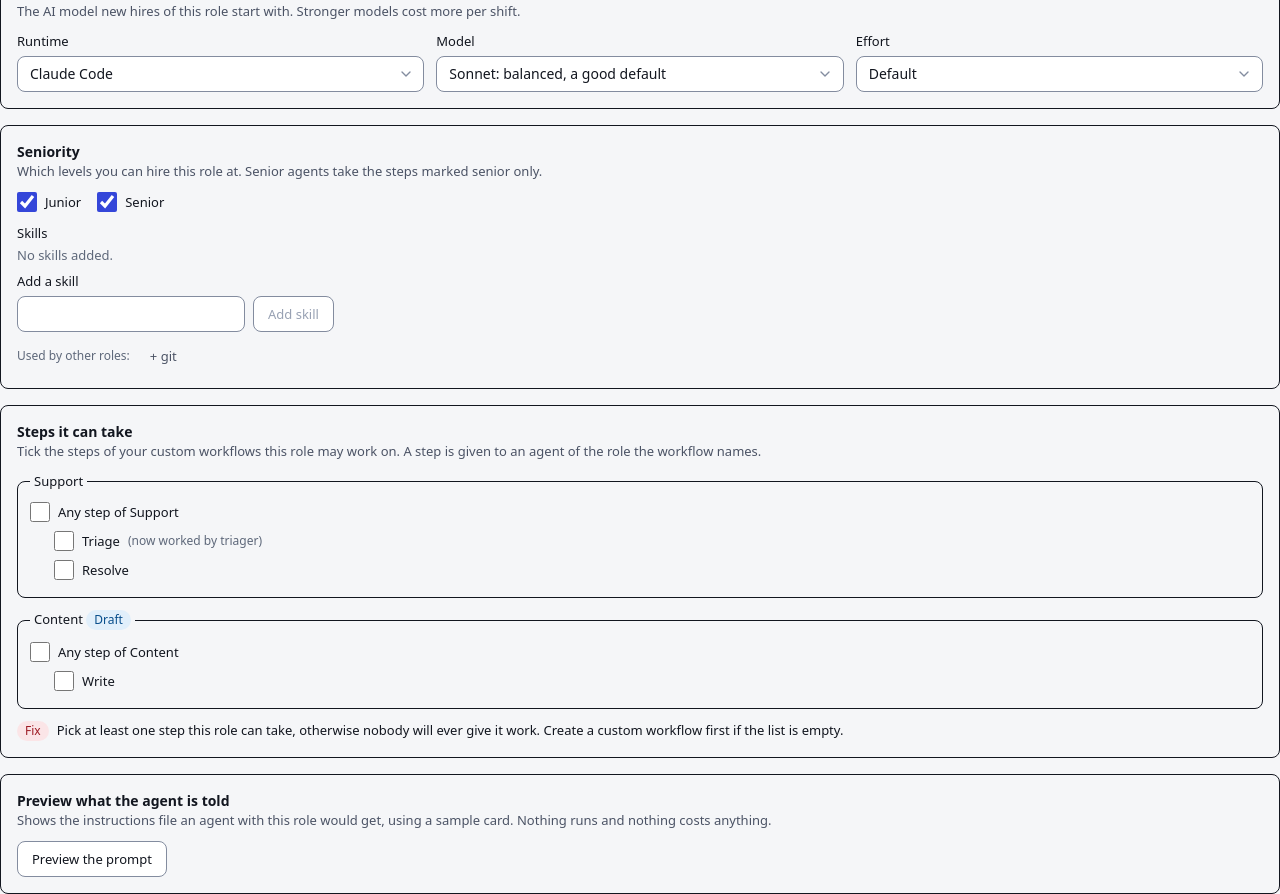
Test: role builder form › steps are a checklist of custom workflow steps, not free text
(page scrolled)
Expected: the text "Support" is shown, [30,472,87,490]
Expected: the text "Draft" is shown, [86,610,131,630]
Click the checkbox labelled "Triage (now worked by triager)": (64,541) [54,531,74,551]
(page scrolled)
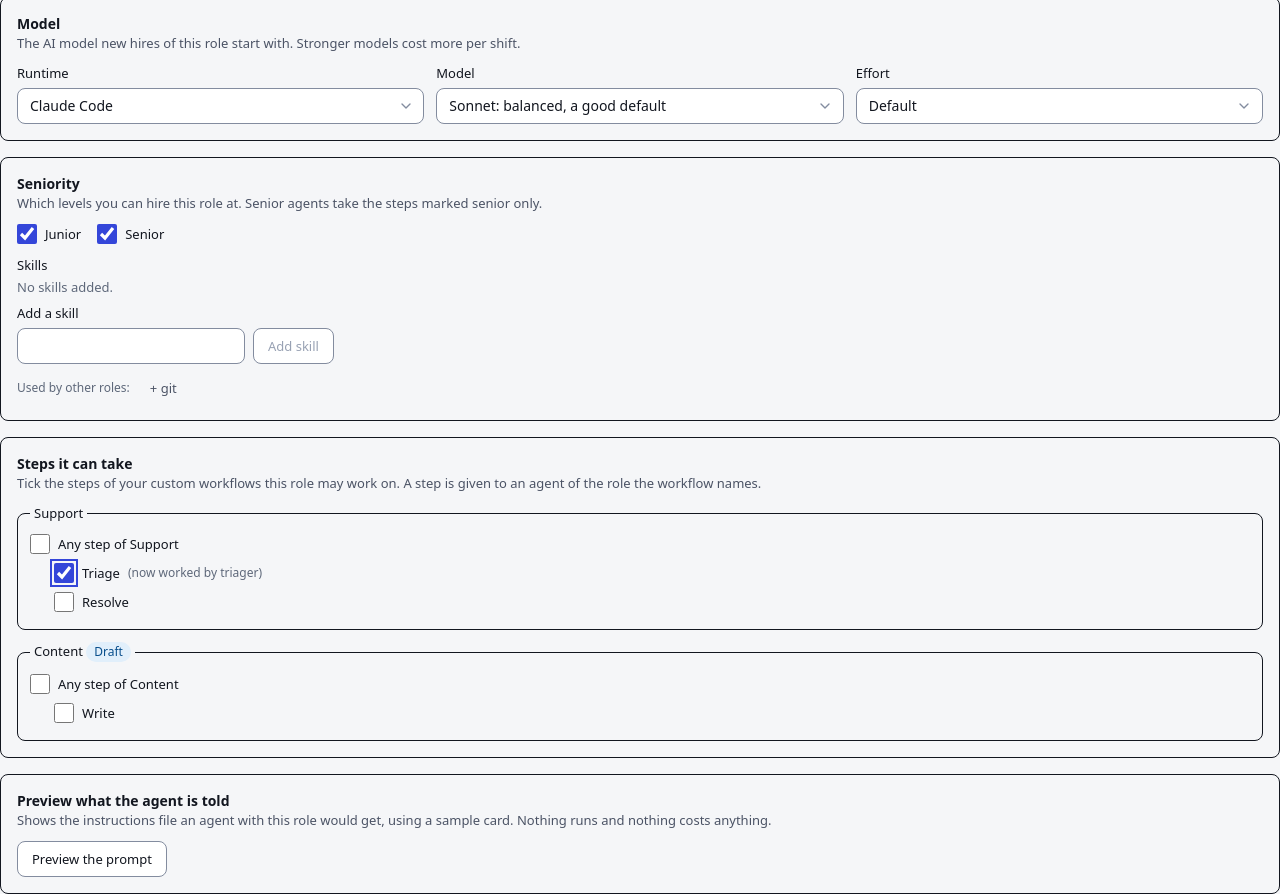
Click the checkbox labelled "Write": (64,713) [54,703,74,723]
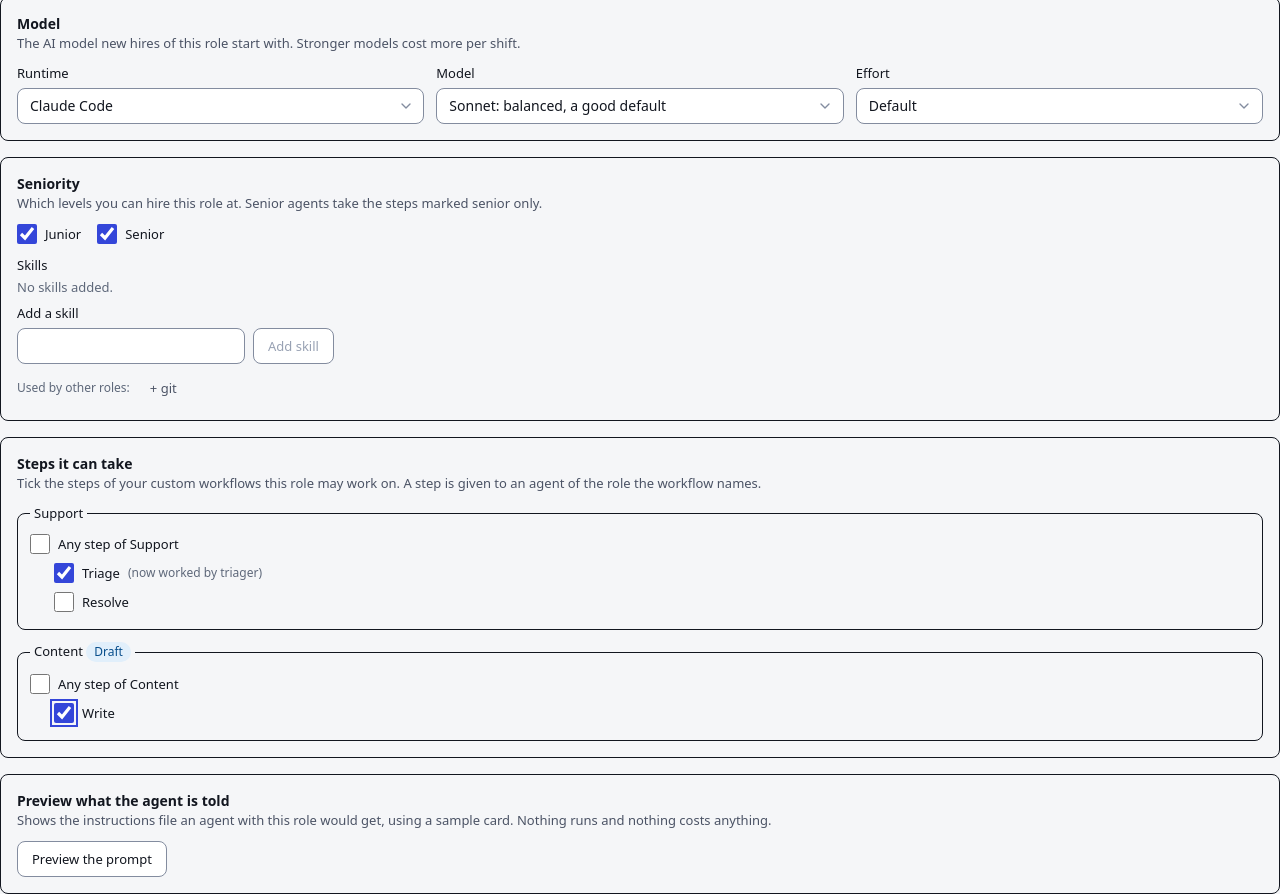
Click the checkbox labelled "Any step of Support": (40,544) [30,534,50,554]
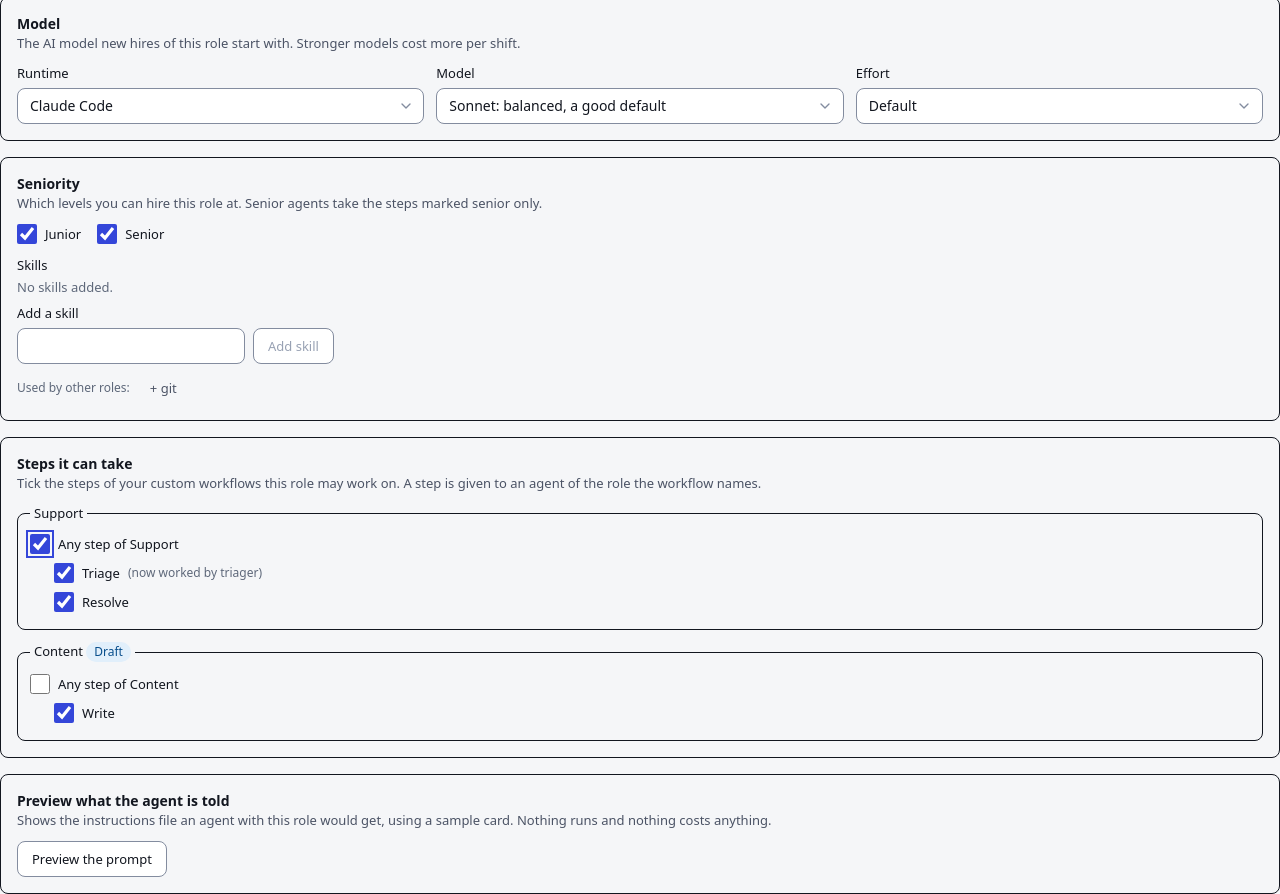
Expected: the checkbox labelled "Resolve" is checked, [54,592,74,612]
